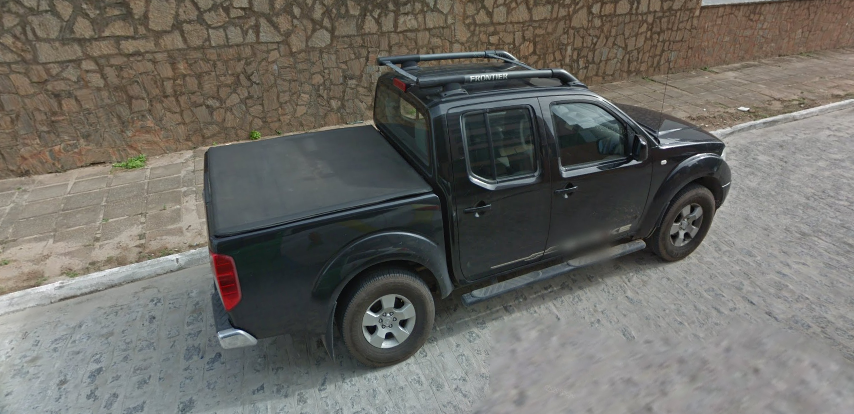car: (198, 45, 735, 372)
